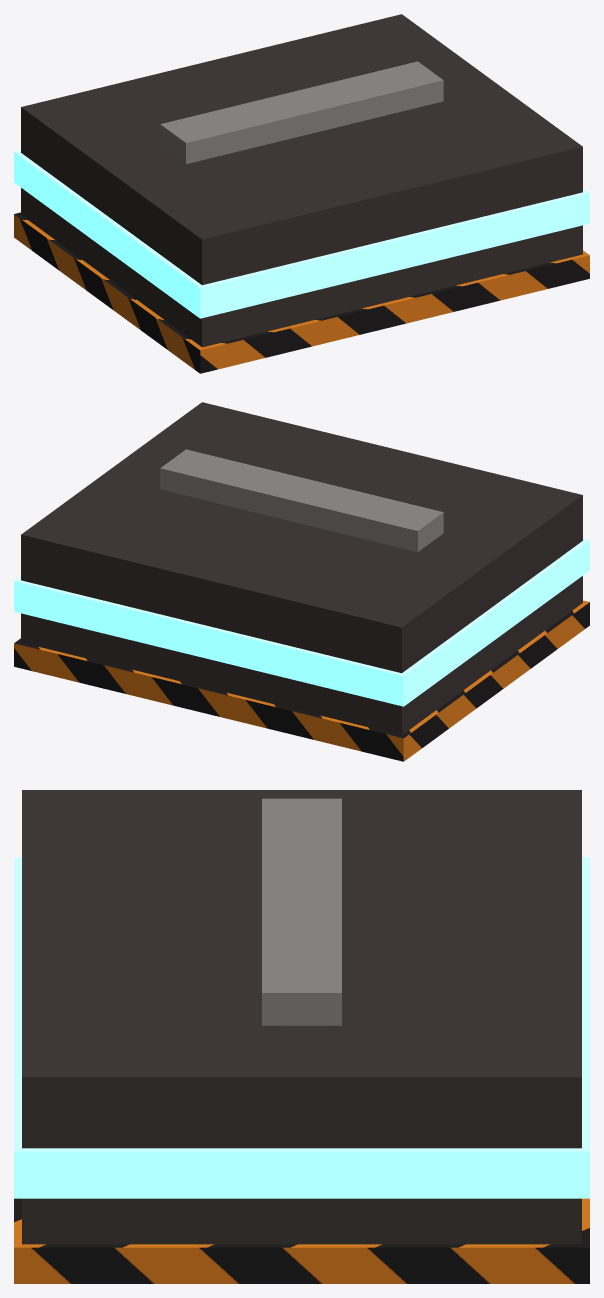
File: vymenik-baterie-nabita.glb
The picture shows the model from 3 angles, top to bottom: view 1: azimuth 30°, elevation 25°; view 2: azimuth 150°, elevation 25°; view 3: azimuth 270°, elevation 25°; orthographic projection. The views are drawn at different scales.
Visible parts, largest first — view 1: vymenik-baterie-nabita; view 2: vymenik-baterie-nabita; view 3: vymenik-baterie-nabita.
Boxes of the visible parts, bbox=[...] form: vymenik-baterie-nabita: bbox=[14, 14, 589, 373]; vymenik-baterie-nabita: bbox=[14, 402, 589, 761]; vymenik-baterie-nabita: bbox=[14, 790, 589, 1283].
Bounding box in the file's own units: 2 × 0.7648 × 1.66.
Materials: 5 (1 with a texture image).
